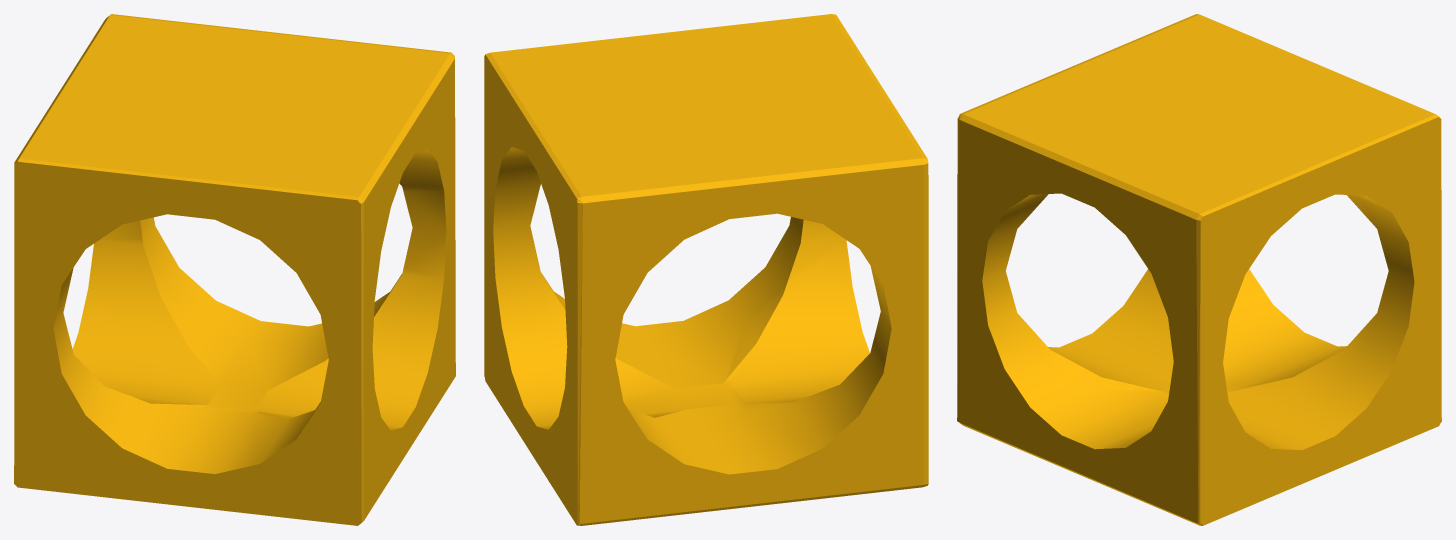
The model's file is 005-CakePan_02.FBX.
3 renders of one model, left to right at view 1: azimuth 30°, elevation 25°; view 2: azimuth 150°, elevation 25°; view 3: azimuth 270°, elevation 25°, orthographic. The views are drawn at different scales.
Visible parts, largest first — view 1: 005-CakePan_02; view 2: 005-CakePan_02; view 3: 005-CakePan_02.
Boxes of the visible parts, x1,y1,x2,y2 form: 005-CakePan_02: [14, 14, 455, 525]; 005-CakePan_02: [484, 14, 928, 525]; 005-CakePan_02: [957, 14, 1441, 525].
Size of the model in its own units: 40.21 by 28.51 by 40.21.
